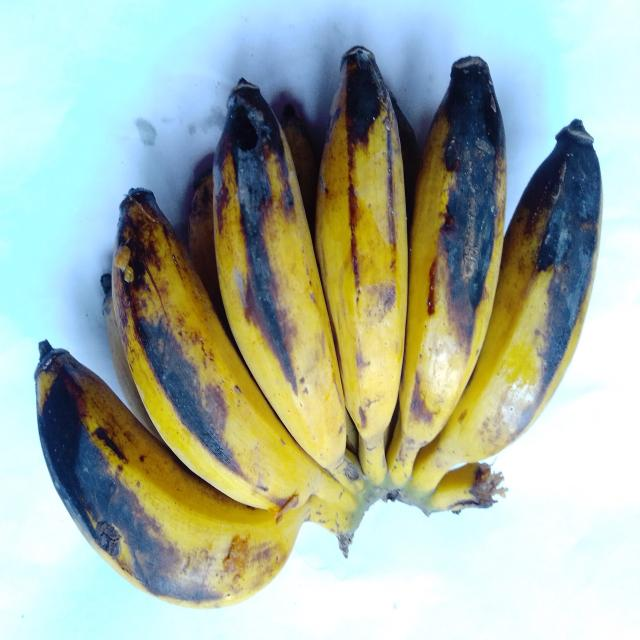banana: (112, 190, 352, 516), (36, 341, 310, 607), (412, 120, 602, 492), (214, 81, 346, 481), (388, 57, 506, 485), (316, 47, 407, 483), (101, 274, 161, 441), (189, 169, 226, 325), (398, 463, 507, 514), (281, 104, 318, 232), (390, 92, 421, 236)
